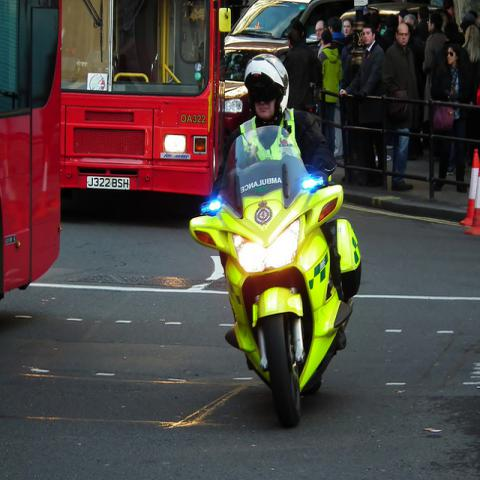bus: (61, 7, 231, 198), (1, 1, 64, 297)
car: (219, 27, 291, 144)
motorcycle: (189, 125, 364, 425)
